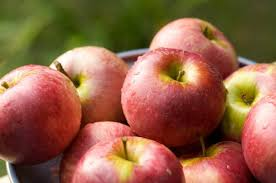apple: (129, 42, 221, 142), (2, 65, 79, 162), (54, 46, 130, 128), (151, 17, 241, 79), (73, 136, 189, 183), (218, 61, 275, 137), (181, 133, 245, 183), (243, 91, 276, 173)
